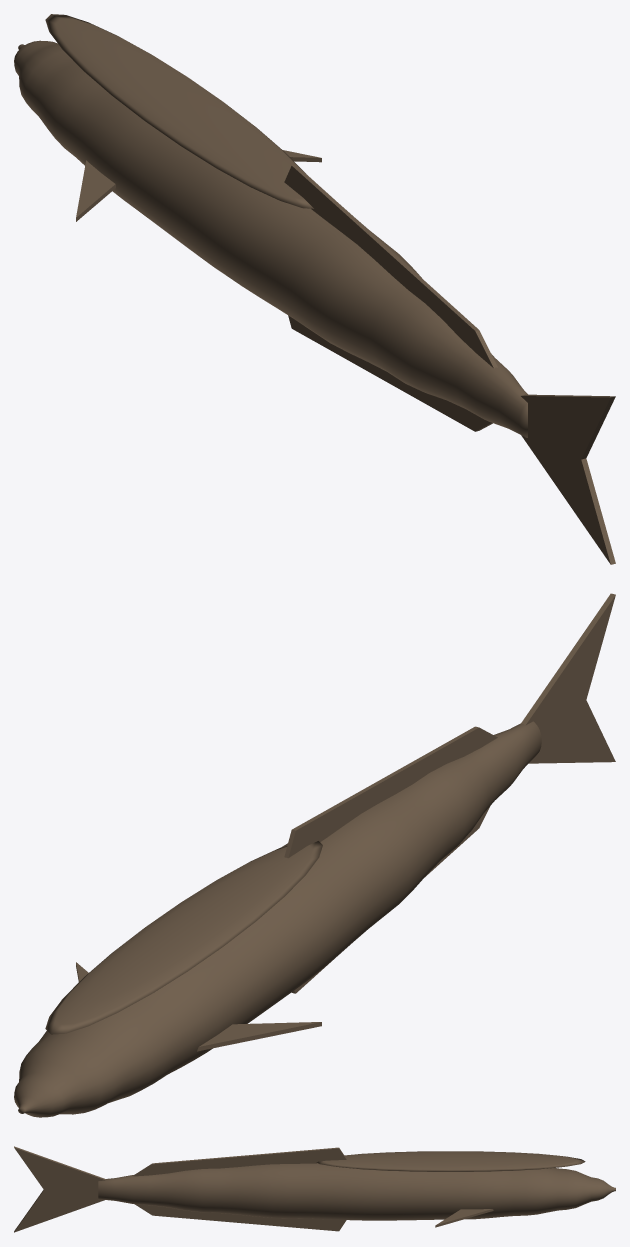
The model's file is remora-australis_placeholder.glb.
3 views of the same model, one above another, from view 1: azimuth 30°, elevation 25°; view 2: azimuth 150°, elevation 25°; view 3: azimuth 270°, elevation 25° (orthographic). The views are drawn at different scales.
Parts seen in each view (by area): view 1: remora-placeholder; view 2: remora-placeholder; view 3: remora-placeholder.
Part boxes in pixels (bbox=[...]): remora-placeholder: bbox=[14, 14, 615, 564]; remora-placeholder: bbox=[14, 593, 615, 1117]; remora-placeholder: bbox=[14, 1146, 615, 1232].
Bounding box in the file's own units: 0.24 × 0.156 × 1.
